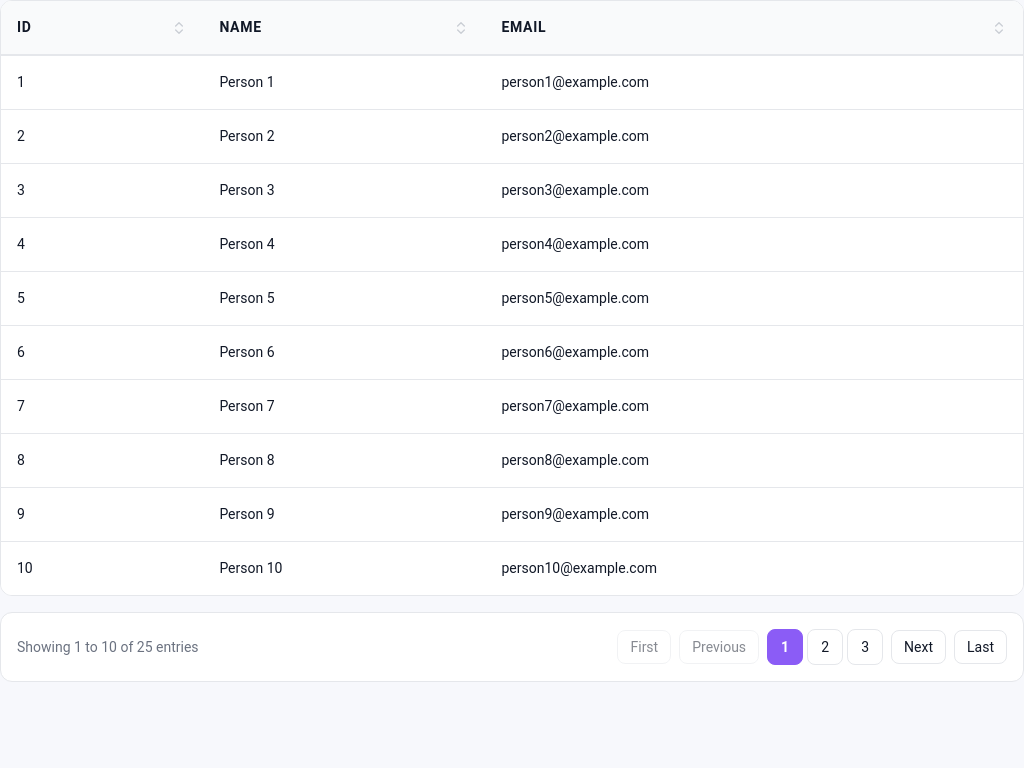
Test: Table Component › Pagination › navigates to next page
Expected: the text "Person 1" is shown, top-left (203, 55), bottom-right (485, 110)
Expected: the text "Person 11" is not shown
Click the button "Next". click: (919, 647)
box: top-left (891, 630), bottom-right (946, 664)
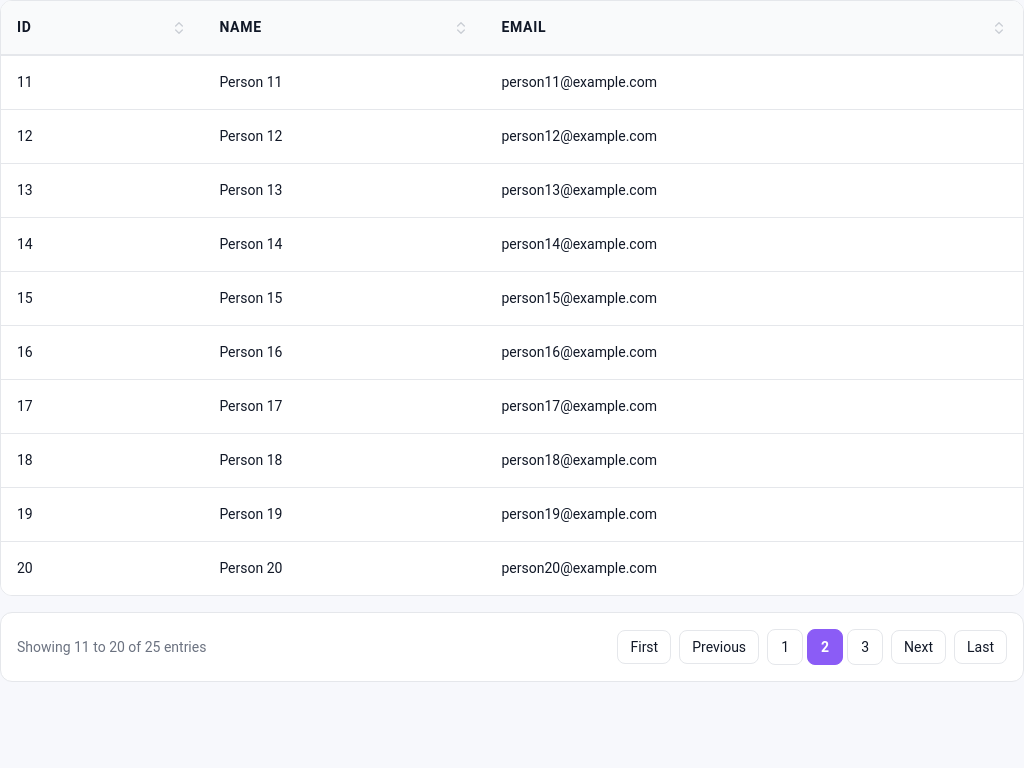
Result: the text "Person 11" is shown at top-left (203, 55), bottom-right (485, 110)
